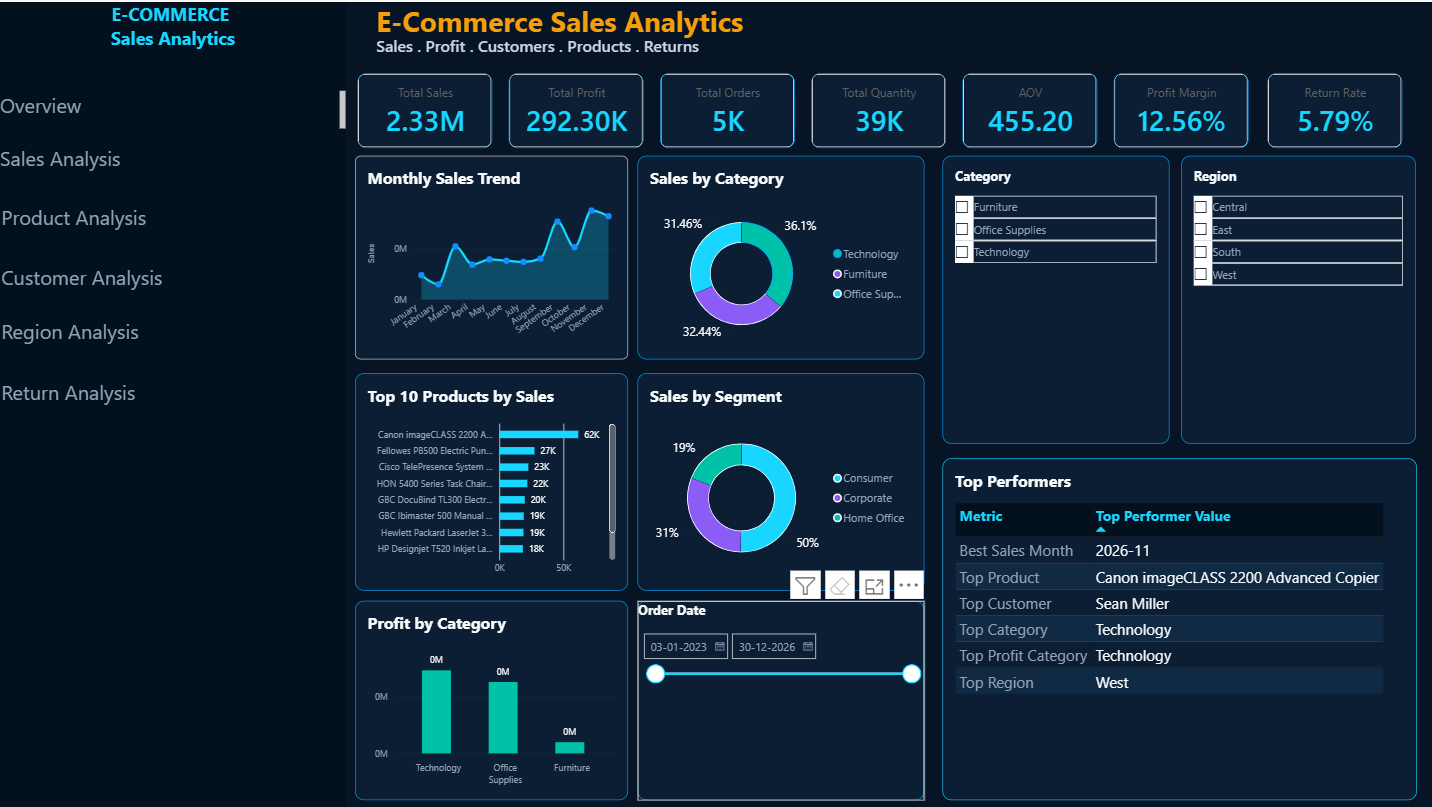

This screenshot's page, from the dashboard's own definition file:
{"tool":"powerbi","page":{"name":"Page 1","canvas":[1920,1080],"ordinal":0},"visuals":[{"type":"cardVisual","fields":{"Data":["Orders.Total Sales"]},"box":[478.3,95,180,100],"z":0},{"type":"cardVisual","fields":{"Data":["Orders.Total Profit"]},"box":[680,95,180,100],"z":1000},{"type":"cardVisual","fields":{"Data":["Orders.Total Orders"]},"box":[881.7,95,180,100],"z":2000},{"type":"cardVisual","fields":{"Data":["Orders.Total Quantity"]},"box":[1083.3,95,180,100],"z":3000},{"type":"cardVisual","fields":{"Data":["Orders.AOV"]},"box":[1285,95,180,100],"z":4000},{"type":"cardVisual","fields":{"Data":["Orders.Profit Margin"]},"box":[1488.3,95,180,100],"z":5000},{"type":"cardVisual","fields":{"Data":["Orders.Return Rate"]},"box":[1693.3,95,180,100],"z":6000},{"type":"textbox","box":[503.3,0,580,60],"z":7000},{"type":"textbox","box":[503.3,43.3,610,43.3],"z":8000},{"type":"shape","box":[0,0,461.7,1080],"z":9000},{"type":"textbox","box":[0,0,461.7,65],"z":10000},{"type":"textbox","box":[0,118.3,461.7,51.7],"z":11000},{"type":"textbox","box":[0,190,461.7,46.7],"z":12000},{"type":"textbox","box":[1.7,268.3,461.7,45],"z":13000},{"type":"textbox","box":[1.7,348.3,461.7,43.3],"z":14000},{"type":"textbox","box":[1.7,420,460,50],"z":15000},{"type":"textbox","box":[1.7,503.3,460,51.7],"z":16000},{"type":"lineChart","title":"Monthly Sales Trend","fields":{"Category":["Orders.Order Date.Variation.Date Hierarchy.Year","Orders.Order Date.Variation.Date Hierarchy.Quarter","Orders.Order Date.Variation.Date Hierarchy.Month","Orders.Order Date.Variation.Date Hierarchy.Day"],"Y":["Orders.Total Sales"]},"box":[475,205,365,271.7],"z":17000},{"type":"donutChart","title":"Sales by Category","fields":{"Category":["Orders.Category"],"Y":["Orders.Total Sales"]},"box":[851.7,205,383.3,271.7],"z":18000},{"type":"barChart","title":"Top 10 Products by Sales","fields":{"Category":["Orders.Product Name"],"Y":["Orders.Total Sales"]},"box":[475,496.7,365,290],"z":19000},{"type":"donutChart","title":"Sales by Segment","fields":{"Category":["Orders.Segment"],"Y":["Orders.Total Sales"]},"box":[851.7,496.7,383.3,290],"z":20000},{"type":"clusteredColumnChart","title":"Profit by Category","fields":{"Category":["Orders.Category"],"Y":["Orders.Total Profit"]},"box":[475,800,365,266.7],"z":21000},{"type":"slicer","title":"Order Date","fields":{"Values":["Orders.Order Date"]},"box":[851.7,800,383.3,266.7],"z":22000},{"type":"listSlicer","fields":{"Values":["Orders.Region"]},"box":[1578.3,205,313.3,385],"z":23000},{"type":"listSlicer","fields":{"Values":["Orders.Category"]},"box":[1258.3,205,303.3,385],"z":24000},{"type":"tableEx","title":"Top Performers","fields":{"Values":["Top Performer Metrics.Metric","Orders.Top Performer Value"]},"box":[1258.3,610,633.3,456.7],"z":25000}]}

Visuals, with their boxes on the page's 1920x1080 design canvas (x1, y1, x2, y2). These are canvas units, not pixel positions in the 1432x807 screenshot, which may show the page scaled, cropped or inside an application window:
cardVisual - Orders.Total Sales: [x1=478, y1=95, x2=658, y2=195]
cardVisual - Orders.Total Profit: [x1=680, y1=95, x2=860, y2=195]
cardVisual - Orders.Total Orders: [x1=882, y1=95, x2=1062, y2=195]
cardVisual - Orders.Total Quantity: [x1=1083, y1=95, x2=1263, y2=195]
cardVisual - Orders.AOV: [x1=1285, y1=95, x2=1465, y2=195]
cardVisual - Orders.Profit Margin: [x1=1488, y1=95, x2=1668, y2=195]
cardVisual - Orders.Return Rate: [x1=1693, y1=95, x2=1873, y2=195]
textbox: [x1=503, y1=0, x2=1083, y2=60]
textbox: [x1=503, y1=43, x2=1113, y2=87]
shape: [x1=0, y1=0, x2=462, y2=1080]
textbox: [x1=0, y1=0, x2=462, y2=65]
textbox: [x1=0, y1=118, x2=462, y2=170]
textbox: [x1=0, y1=190, x2=462, y2=237]
textbox: [x1=2, y1=268, x2=463, y2=313]
textbox: [x1=2, y1=348, x2=463, y2=392]
textbox: [x1=2, y1=420, x2=462, y2=470]
textbox: [x1=2, y1=503, x2=462, y2=555]
"Monthly Sales Trend" lineChart: [x1=475, y1=205, x2=840, y2=477]
"Sales by Category" donutChart: [x1=852, y1=205, x2=1235, y2=477]
"Top 10 Products by Sales" barChart: [x1=475, y1=497, x2=840, y2=787]
"Sales by Segment" donutChart: [x1=852, y1=497, x2=1235, y2=787]
"Profit by Category" clusteredColumnChart: [x1=475, y1=800, x2=840, y2=1067]
"Order Date" slicer: [x1=852, y1=800, x2=1235, y2=1067]
listSlicer - Orders.Region: [x1=1578, y1=205, x2=1892, y2=590]
listSlicer - Orders.Category: [x1=1258, y1=205, x2=1562, y2=590]
"Top Performers" tableEx: [x1=1258, y1=610, x2=1892, y2=1067]
